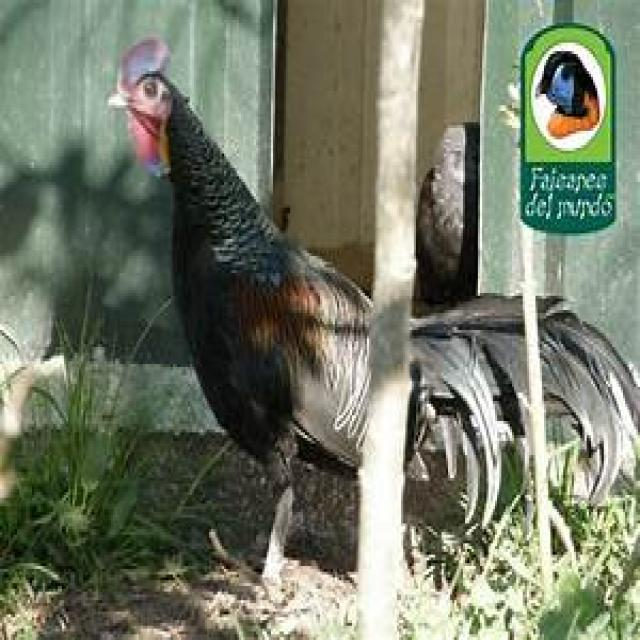hen: (107, 37, 378, 592), (403, 299, 527, 546)
